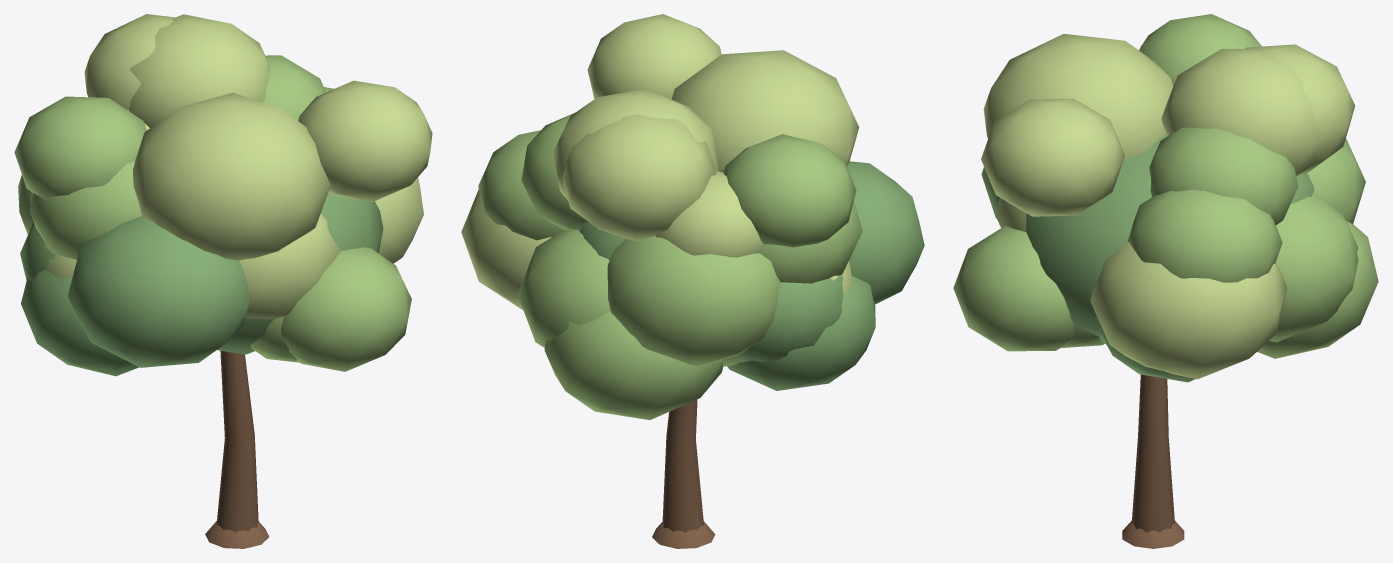
Rendered from tree-large-3.glb.
The picture shows the model from 3 angles, left to right: view 1: azimuth 30°, elevation 25°; view 2: azimuth 150°, elevation 25°; view 3: azimuth 270°, elevation 25°; orthographic projection.
Visible parts, largest first — view 1: tree-large-3; view 2: tree-large-3; view 3: tree-large-3.
Part boxes in pixels (<box>): tree-large-3: <box>14,14,432,548</box>; tree-large-3: <box>461,14,924,548</box>; tree-large-3: <box>953,14,1378,548</box>.
Bounding box in the file's own units: 7.6 × 8.96 × 7.18.
